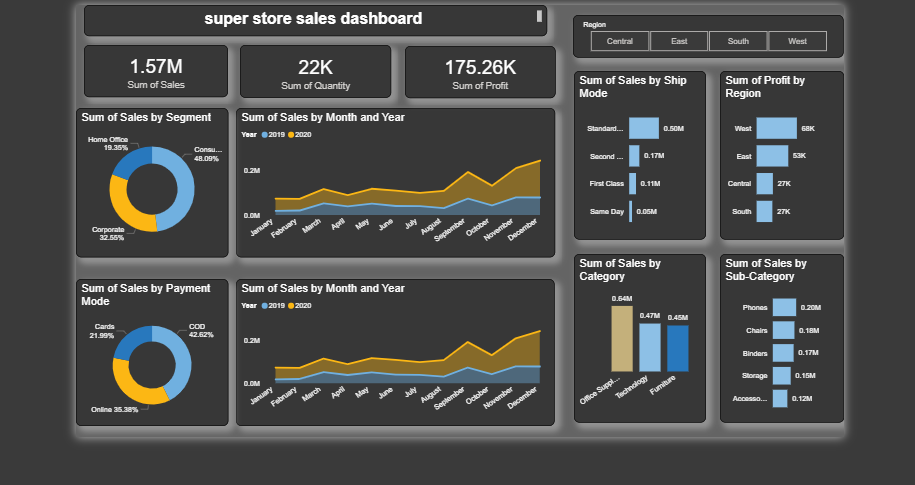

This screenshot's page, from the dashboard's own definition file:
{"tool":"powerbi","page":{"name":"Page 1","canvas":[1280,720],"ordinal":0},"visuals":[{"type":"clusteredBarChart","fields":{"Category":["Sheet1.Category"],"Y":["Sum(Sheet1.Sales)"]},"box":[829.4,414.7,220.3,280.8],"z":0},{"type":"clusteredBarChart","fields":{"Y":["Sum(Sheet1.Sales)"],"Category":["Sheet1.Sub-Category"]},"box":[1072.8,414.7,207.4,280.8],"z":1000},{"type":"clusteredBarChart","fields":{"Y":["Sum(Sheet1.Sales)"],"Category":["Sheet1.Ship Mode"]},"box":[829.4,109.4,220.3,280.8],"z":2000},{"type":"stackedAreaChart","fields":{"Category":["Sheet1.Order Date.Variation.Date Hierarchy.Month","Sheet1.Order Date.Variation.Date Hierarchy.Day"],"Y":["Sum(Sheet1.Sales)"],"Series":["Sheet1.Order Date.Variation.Date Hierarchy.Year"]},"box":[266.7,171,531.9,249.3],"z":3000},{"type":"stackedAreaChart","fields":{"Category":["Sheet1.Order Date.Variation.Date Hierarchy.Month","Sheet1.Order Date.Variation.Date Hierarchy.Day"],"Y":["Sum(Sheet1.Sales)"],"Series":["Sheet1.Order Date.Variation.Date Hierarchy.Year"]},"box":[267.2,456.7,531.3,244.8],"z":4000},{"type":"barChart","fields":{"Category":["Sheet1.Region"],"Y":["Sum(Sheet1.Profit)"]},"box":[1072.8,109.4,207.4,280.8],"z":5000},{"type":"donutChart","fields":{"Category":["Sheet1.Segment"],"Y":["Sum(Sheet1.Sales)"]},"box":[0,171,253.6,249.3],"z":5001},{"type":"donutChart","fields":{"Category":["Sheet1.Payment Mode"],"Y":["Sum(Sheet1.Sales)"]},"box":[0,456.5,253.6,244.9],"z":5002},{"type":"slicer","fields":{"Values":["Sheet1.Region"]},"box":[829,15.9,450.7,71],"z":5003},{"type":"textbox","box":[13.4,0,771.6,52.2],"z":5004},{"type":"card","fields":{"Values":["Sum(Sheet1.Sales)"]},"box":[13.4,67.2,240.3,86.6],"z":5005},{"type":"card","fields":{"Values":["Sum(Sheet1.Quantity)"]},"box":[273.1,67.2,252.2,88.1],"z":5006},{"type":"card","fields":{"Values":["Sum(Sheet1.Profit)"]},"box":[547.8,68.7,250.7,86.6],"z":5007}]}

Visuals, with their boxes on the page's 1280x720 design canvas (x1, y1, x2, y2). These are canvas units, not pixel positions in the 915x485 screenshot, which may show the page scaled, cropped or inside an application window:
clusteredBarChart - Sheet1.Category x Sum(Sheet1.Sales): <bbox>829, 415, 1050, 696</bbox>
clusteredBarChart - Sum(Sheet1.Sales) x Sheet1.Sub-Category: <bbox>1073, 415, 1280, 696</bbox>
clusteredBarChart - Sum(Sheet1.Sales) x Sheet1.Ship Mode: <bbox>829, 109, 1050, 390</bbox>
stackedAreaChart - Sheet1.Order Date.Variation.Date Hierarchy.Month x Sheet1.Order Date.Variation.Date Hierarchy.Day: <bbox>267, 171, 799, 420</bbox>
stackedAreaChart - Sheet1.Order Date.Variation.Date Hierarchy.Month x Sheet1.Order Date.Variation.Date Hierarchy.Day: <bbox>267, 457, 798, 702</bbox>
barChart - Sheet1.Region x Sum(Sheet1.Profit): <bbox>1073, 109, 1280, 390</bbox>
donutChart - Sheet1.Segment x Sum(Sheet1.Sales): <bbox>0, 171, 254, 420</bbox>
donutChart - Sheet1.Payment Mode x Sum(Sheet1.Sales): <bbox>0, 456, 254, 701</bbox>
slicer - Sheet1.Region: <bbox>829, 16, 1280, 87</bbox>
textbox: <bbox>13, 0, 785, 52</bbox>
card - Sum(Sheet1.Sales): <bbox>13, 67, 254, 154</bbox>
card - Sum(Sheet1.Quantity): <bbox>273, 67, 525, 155</bbox>
card - Sum(Sheet1.Profit): <bbox>548, 69, 798, 155</bbox>
